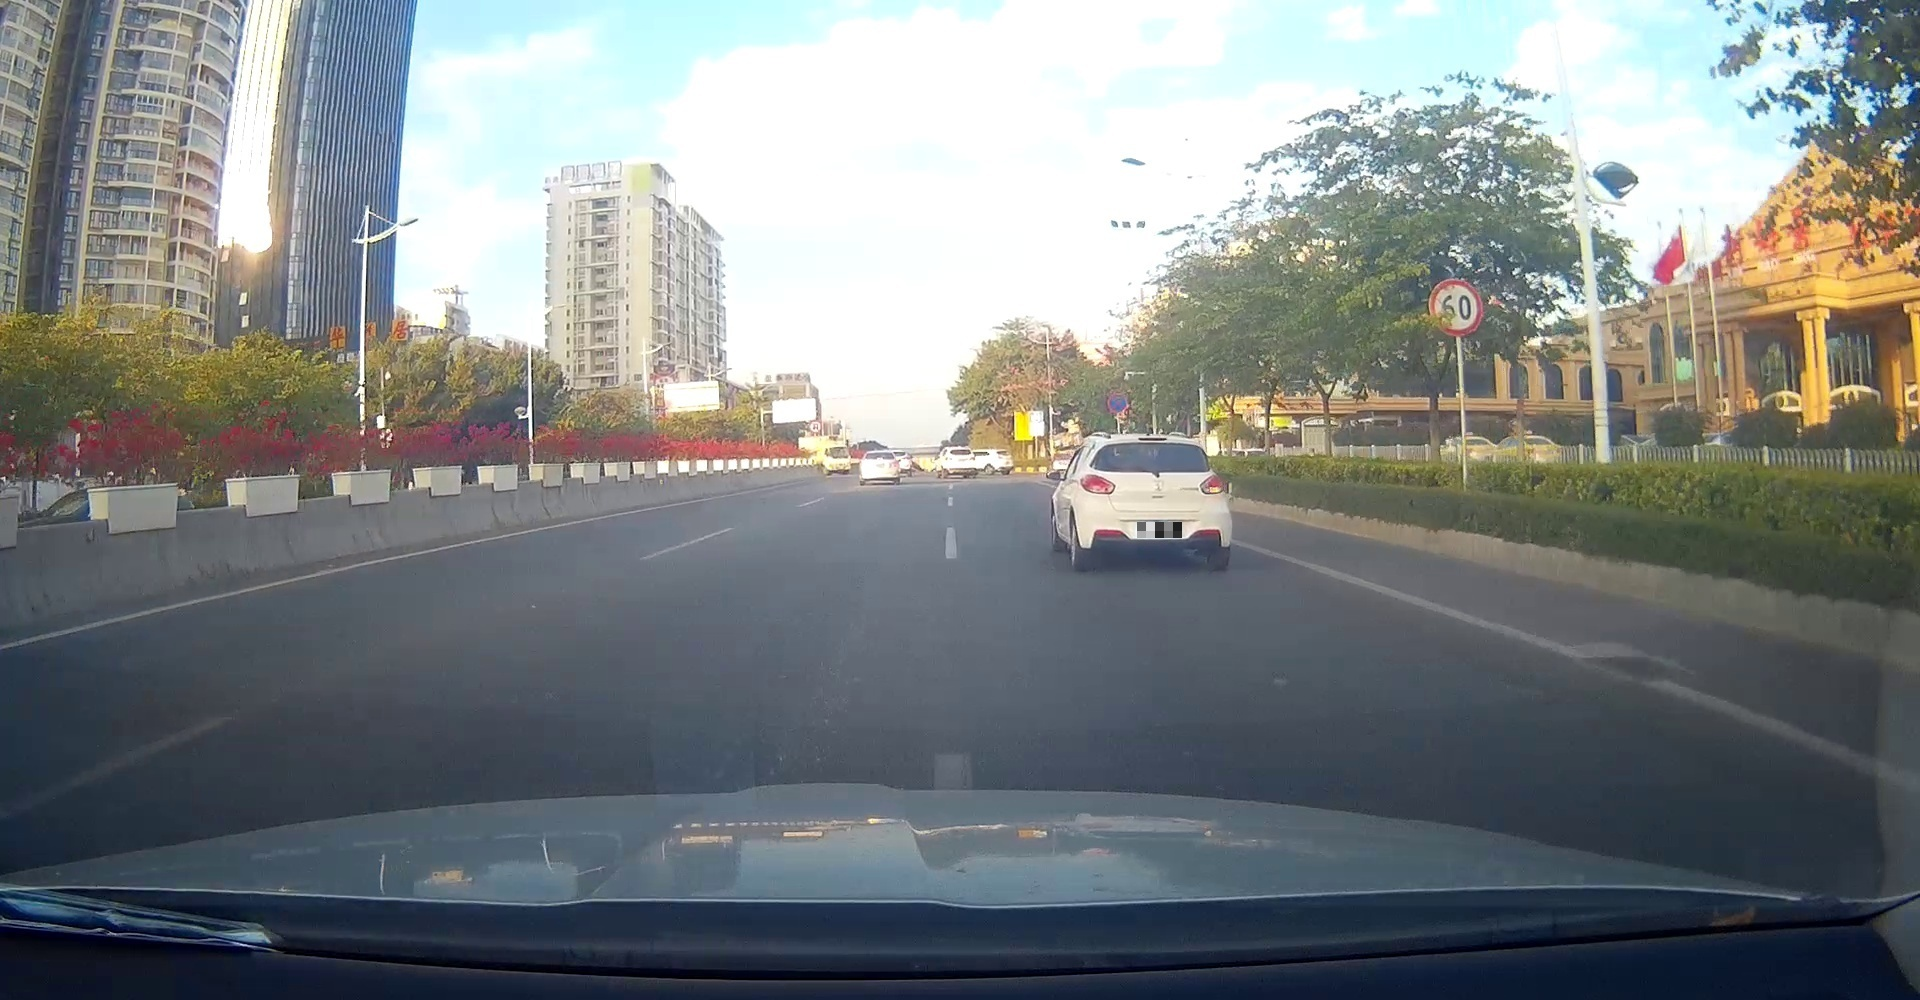L_light: (1079, 473, 1116, 495)
R_light: (1199, 472, 1225, 495)
T_light: (1138, 437, 1167, 442)
day-right: (1074, 433, 1230, 569)
plate_1: (1137, 522, 1182, 538)
